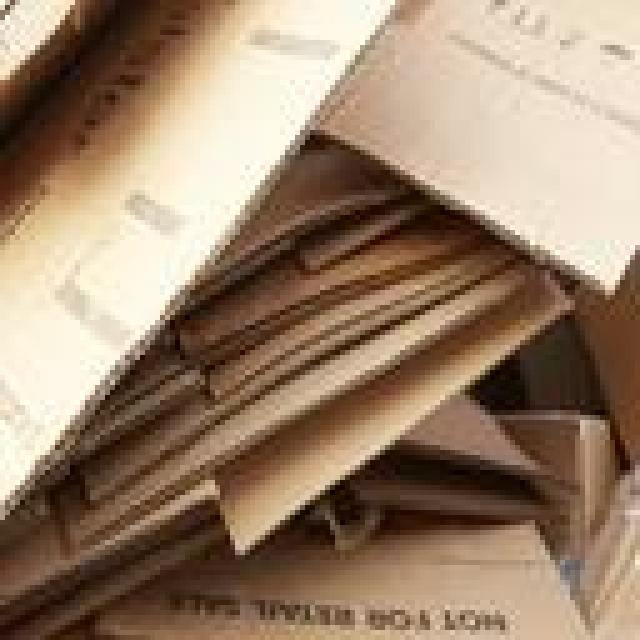cardboard: (0, 0, 385, 530), (50, 245, 520, 565), (95, 235, 520, 520), (215, 265, 575, 550), (315, 0, 635, 290), (85, 200, 485, 430), (100, 510, 585, 635), (180, 135, 400, 320), (0, 490, 220, 635), (490, 400, 615, 550), (570, 270, 635, 465)
